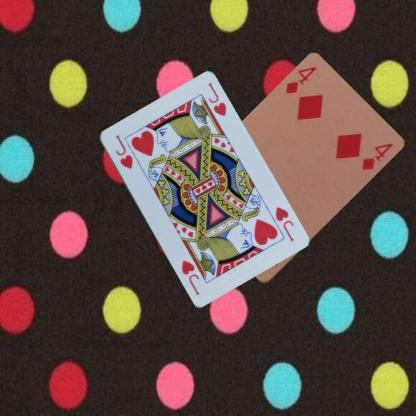4d: (283, 64, 318, 96)
Jh: (272, 203, 295, 243), (112, 132, 134, 170)
